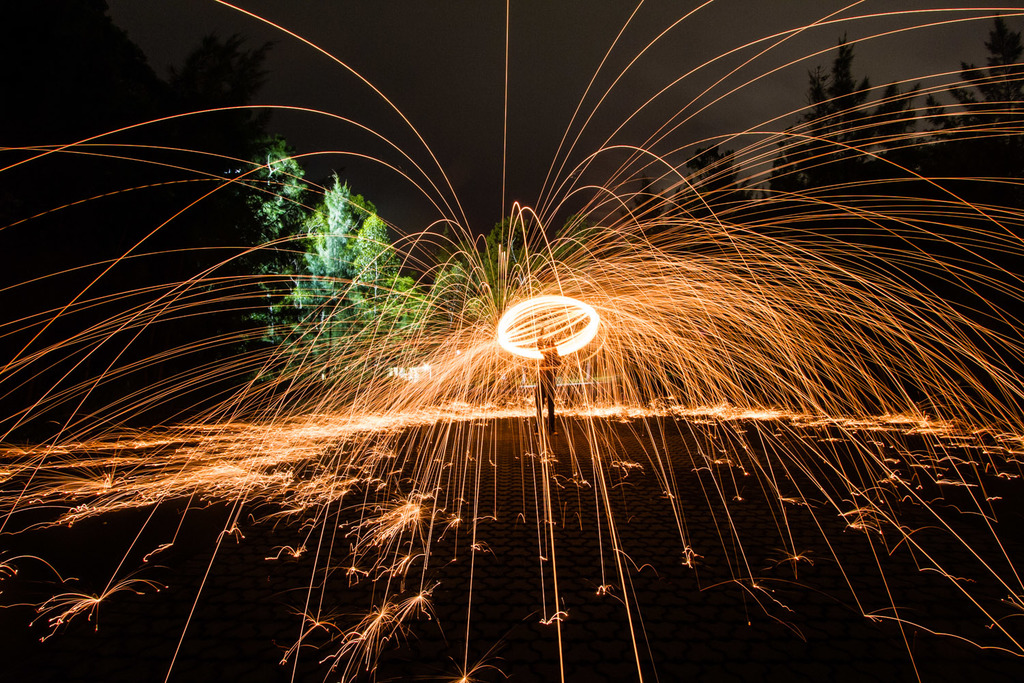Tree: (276, 167, 436, 383)
